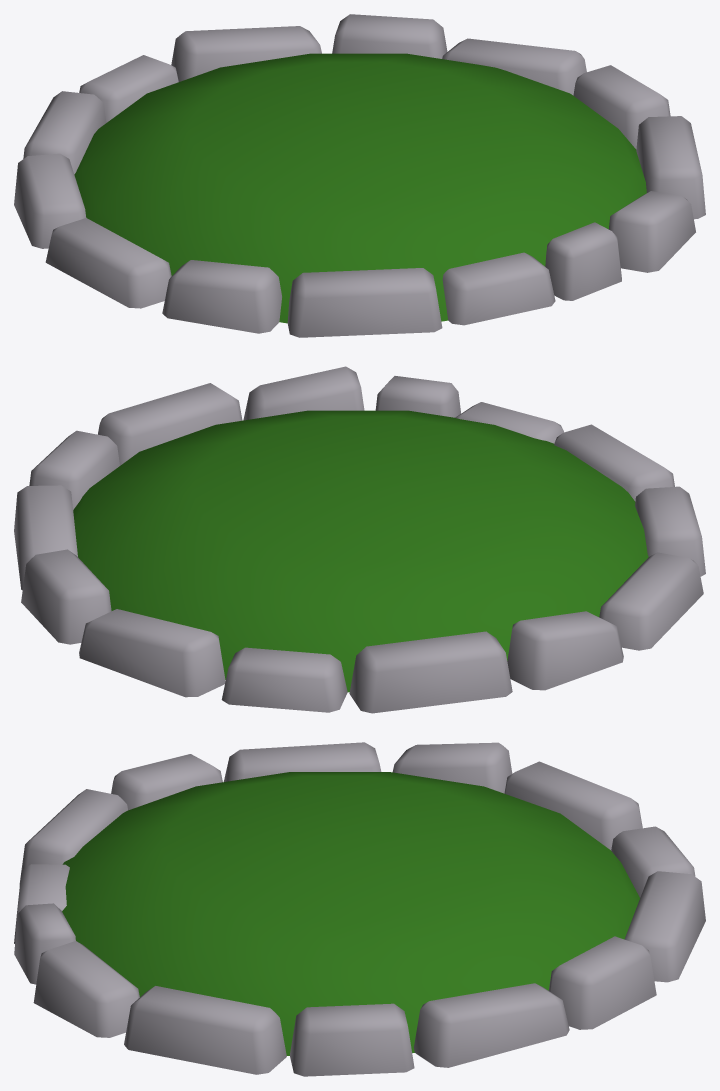
Rendered from TreePLace.glb.
3 views of the same model, one above another, from view 1: azimuth 30°, elevation 25°; view 2: azimuth 150°, elevation 25°; view 3: azimuth 270°, elevation 25° (orthographic). The views are drawn at different scales.
Visible parts, largest first — view 1: TreePLace; view 2: TreePLace; view 3: TreePLace.
Boxes of the visible parts, <box> form: TreePLace: <box>14,14,705,337</box>; TreePLace: <box>14,366,705,713</box>; TreePLace: <box>14,742,705,1076</box>.
Size of the model in its own units: 3.33 by 0.4179 by 3.21.
